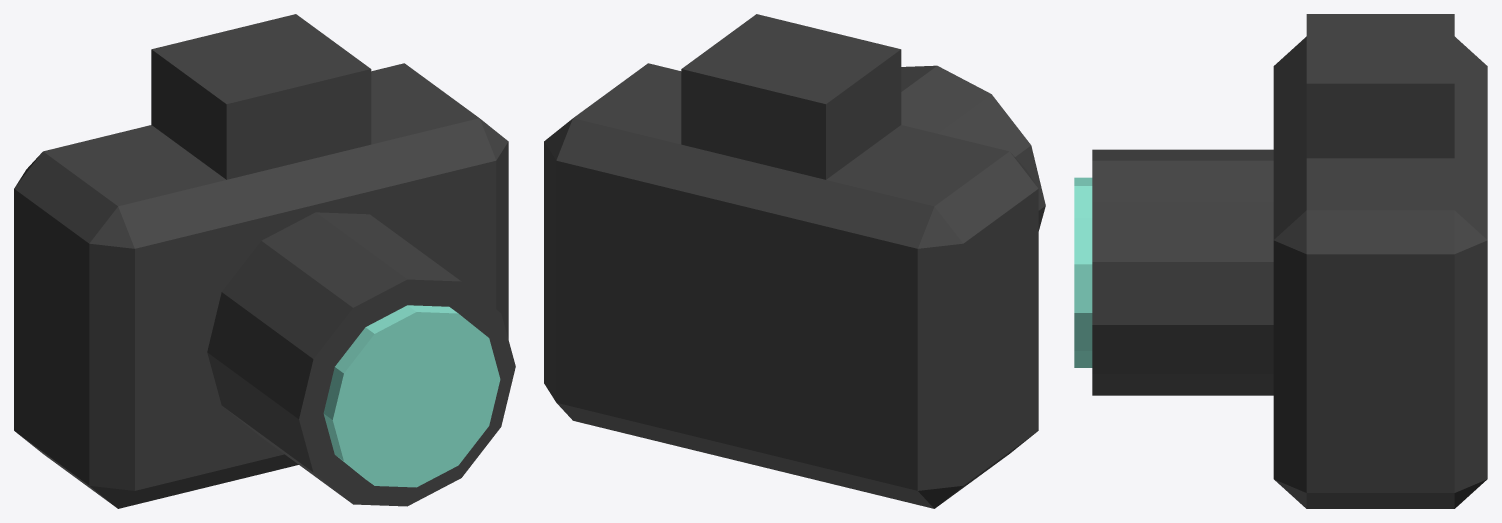
The picture shows the model from 3 angles, left to right: view 1: azimuth 30°, elevation 25°; view 2: azimuth 150°, elevation 25°; view 3: azimuth 270°, elevation 25°; orthographic projection.
Parts seen in each view (by area): view 1: Body, Lens, Viewfinder, Glass; view 2: Body, Viewfinder, Lens; view 3: Body, Lens, Viewfinder, Glass.
Boxes of the visible parts, x1=… form: Body: x1=14, y1=63, x2=508, y2=508; Lens: x1=207, y1=212, x2=515, y2=506; Viewfinder: x1=151, y1=14, x2=371, y2=179; Glass: x1=323, y1=305, x2=500, y2=487; Body: x1=544, y1=63, x2=1038, y2=508; Viewfinder: x1=681, y1=14, x2=901, y2=179; Lens: x1=901, y1=65, x2=1045, y2=230; Body: x1=1273, y1=36, x2=1487, y2=508; Lens: x1=1092, y1=149, x2=1273, y2=395; Viewfinder: x1=1306, y1=14, x2=1454, y2=158; Glass: x1=1074, y1=177, x2=1092, y2=367.
Size of the model in its own units: 0.29 by 0.25 by 0.251.
1 material, 1 textured.
